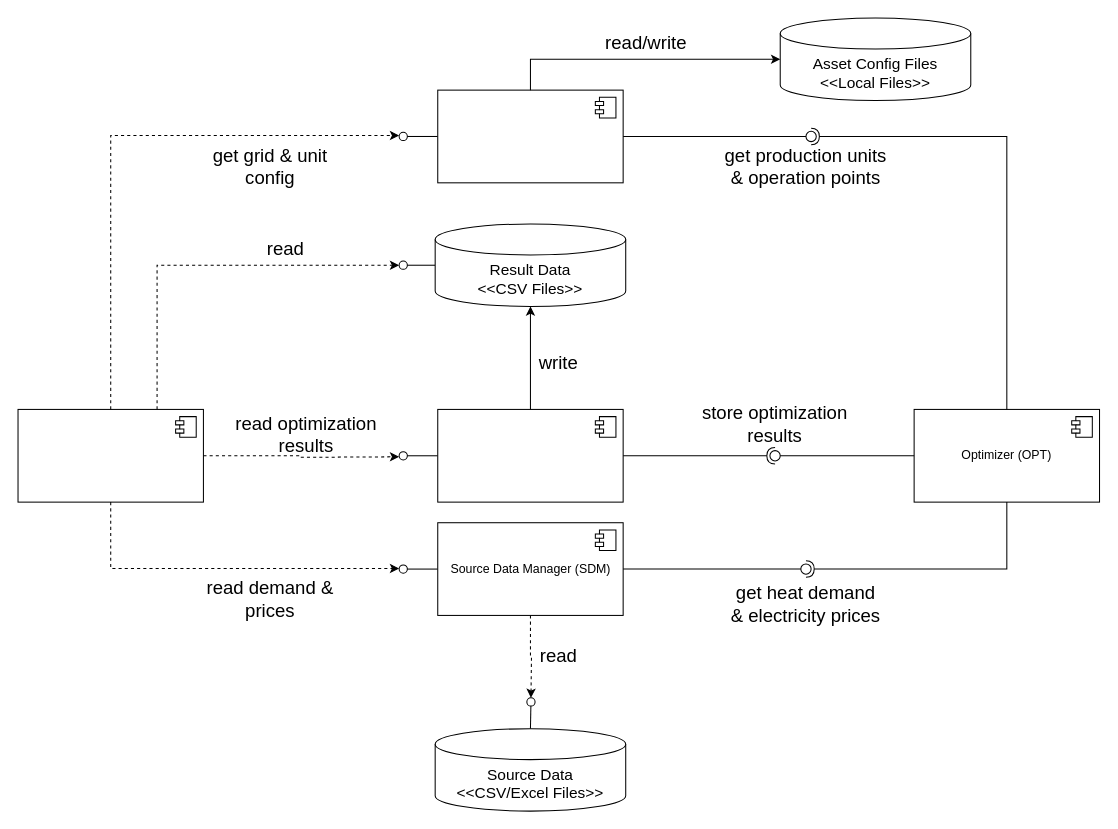
The diagram is 1118 pixels wide and 829 high, and some of its shapes have lost their labels. Each missing label, with the centre of its shape:
"Asset Manager (AM)" belongs at [530,136].
"Data Visualization (DV)" belongs at [110,455].
"Result Data Manager (RDM)" belongs at [530,455].
